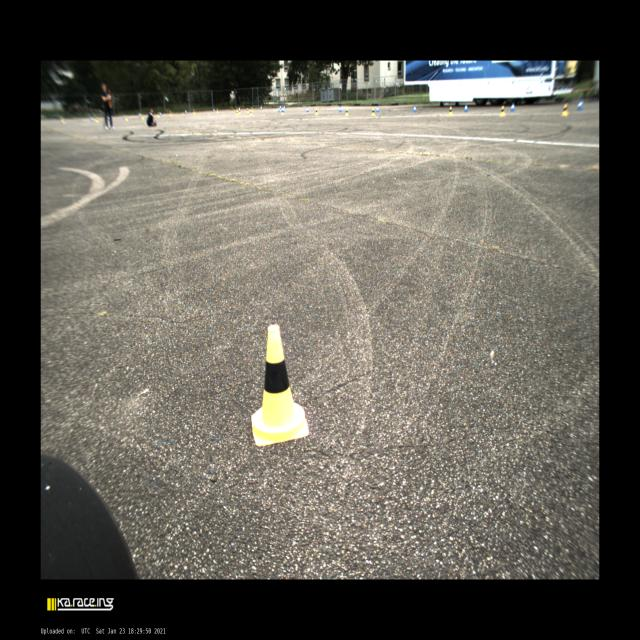blue_cone: (577, 100, 583, 110), (510, 102, 514, 112), (464, 105, 468, 112), (413, 105, 417, 112), (90, 116, 94, 122), (376, 106, 379, 112), (339, 106, 342, 112), (306, 106, 309, 112), (122, 114, 125, 120), (159, 111, 162, 116), (138, 113, 141, 118), (238, 106, 240, 112), (278, 107, 280, 112), (213, 108, 215, 113), (282, 106, 284, 110), (283, 108, 285, 112), (260, 106, 262, 110), (185, 110, 187, 114), (280, 105, 281, 109), (284, 106, 285, 110)
yellow_cone: (251, 325, 309, 446), (562, 104, 568, 116), (500, 105, 506, 116), (448, 106, 453, 116), (345, 108, 349, 116), (372, 108, 376, 116), (314, 108, 318, 115), (281, 108, 284, 116), (95, 117, 99, 123), (193, 109, 196, 115), (157, 112, 160, 118), (141, 114, 144, 120), (125, 114, 128, 120), (246, 108, 249, 113), (216, 108, 219, 113), (62, 118, 65, 123), (250, 109, 252, 116), (236, 110, 238, 116), (170, 110, 172, 116), (251, 107, 253, 112), (238, 110, 240, 115), (236, 107, 238, 112)
